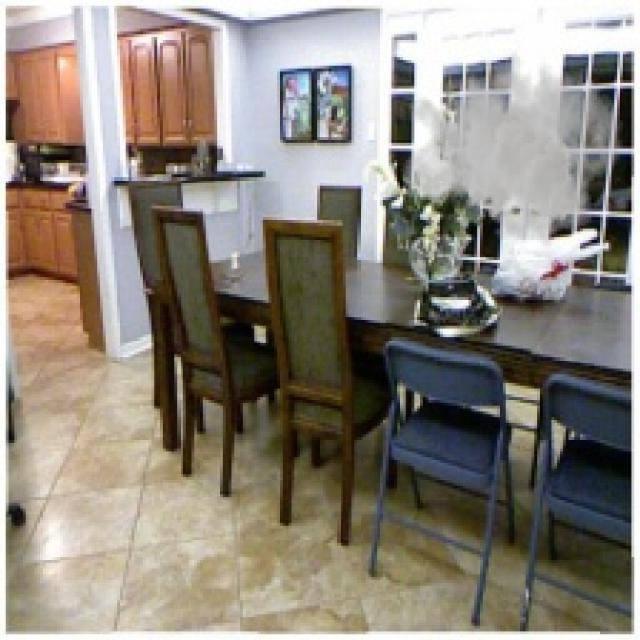Smoke: (400, 40, 623, 249)
